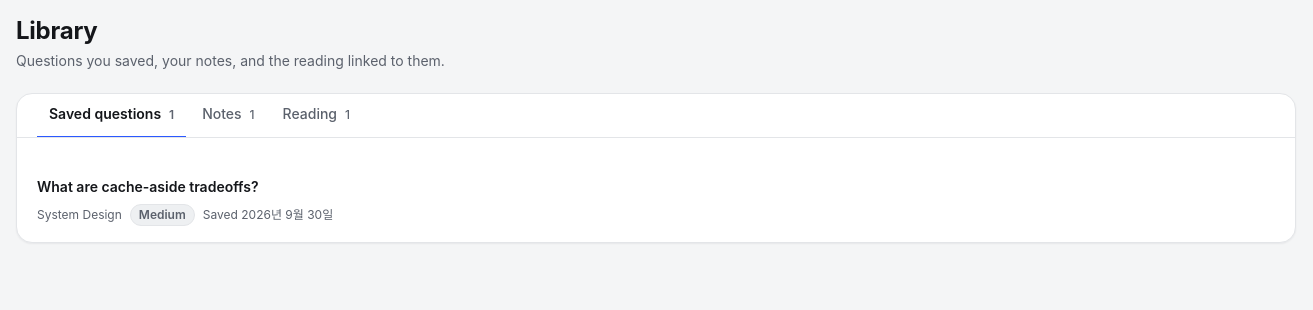
Scenario: LibraryPage › lists saved questions, notes, and linked reading in tabs
Check: the heading "Library" is shown, box [16,16,98,45]
Check: the tab "Saved questions 1" is shown, box [37,94,186,138]
Click the tab "Notes 1".
click(228, 116)  # box [190,94,267,138]
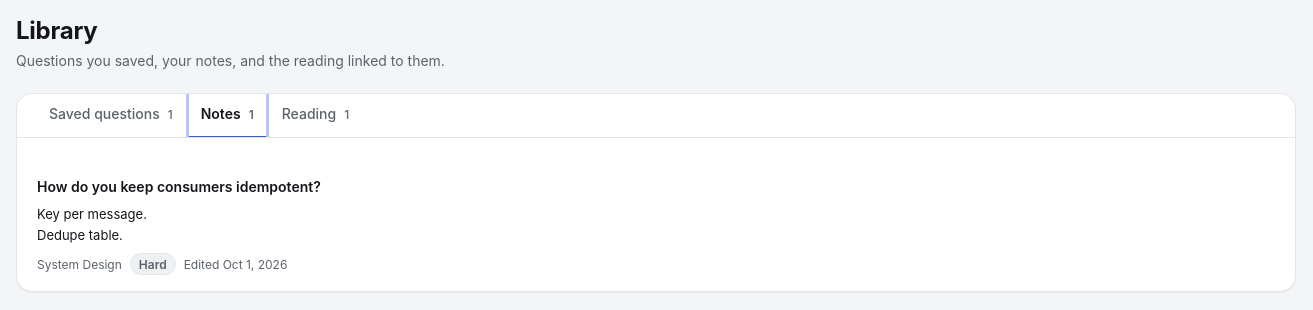
Check: the text "Key per message. Dedupe table." is shown, box [37,206,147,243]
Click the tab "Reading 1".
click(315, 116)  # box [270,94,361,138]
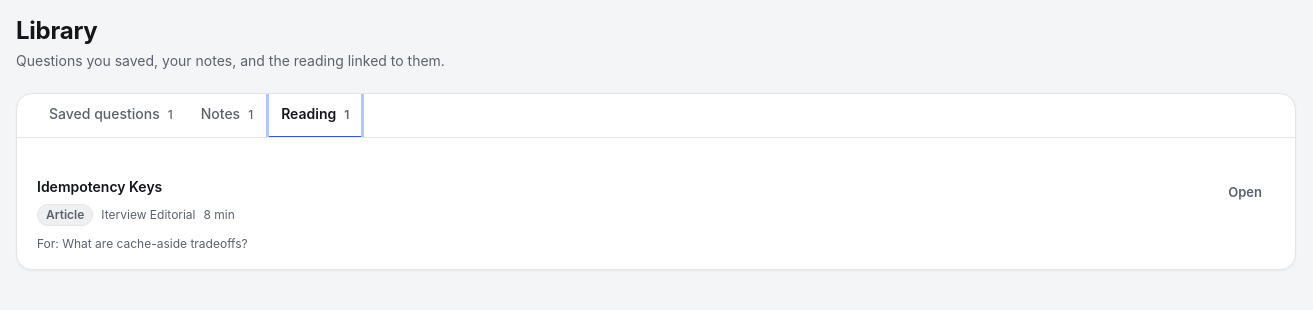
Check: the text "Idempotency Keys" is shown, box [37,178,162,195]
Check: the text "8 min" is shown, box [204,205,235,224]
